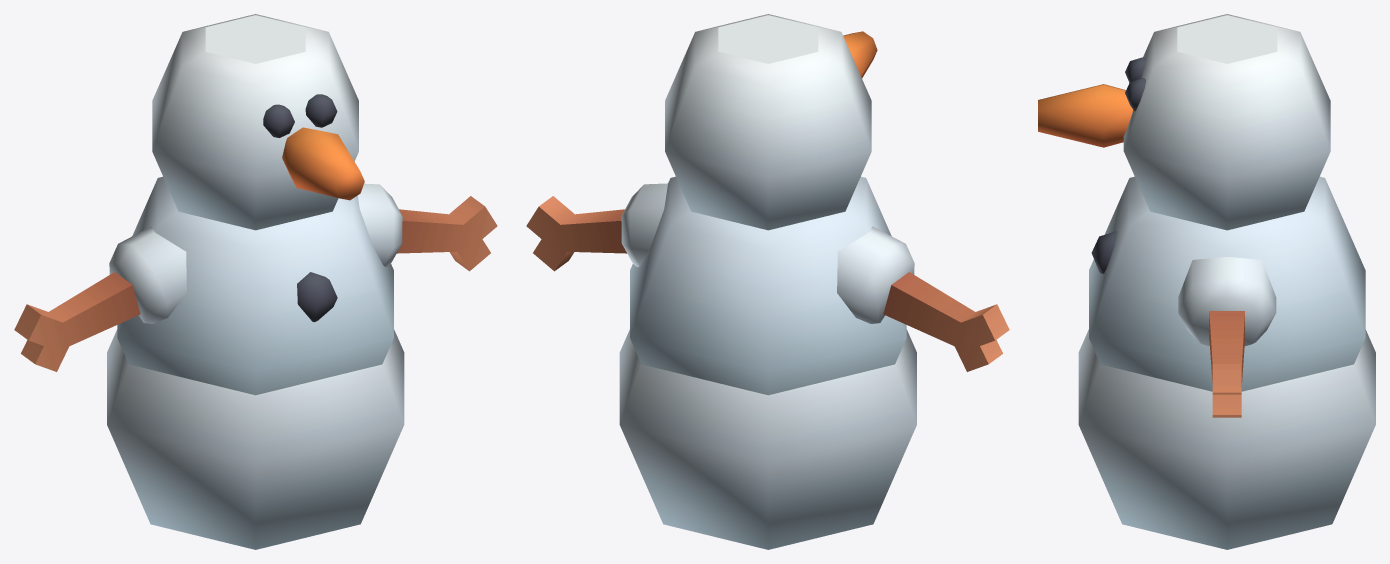
The model's file is k-holiday-snowman.glb.
3 views of the same model, side by side, from view 1: azimuth 30°, elevation 25°; view 2: azimuth 150°, elevation 25°; view 3: azimuth 270°, elevation 25° (orthographic).
Visible parts, largest first — view 1: snowman; view 2: snowman; view 3: snowman.
Boxes of the visible parts, x1,y1,x2,y2 form: snowman: (14,14,497,549); snowman: (526,14,1009,549); snowman: (1038,14,1375,549).
Size of the model in its own units: 1.1 by 1.06 by 0.6881.
1 material, 1 textured.
